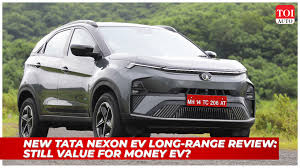Tata Nexon: (17, 17, 258, 137)
